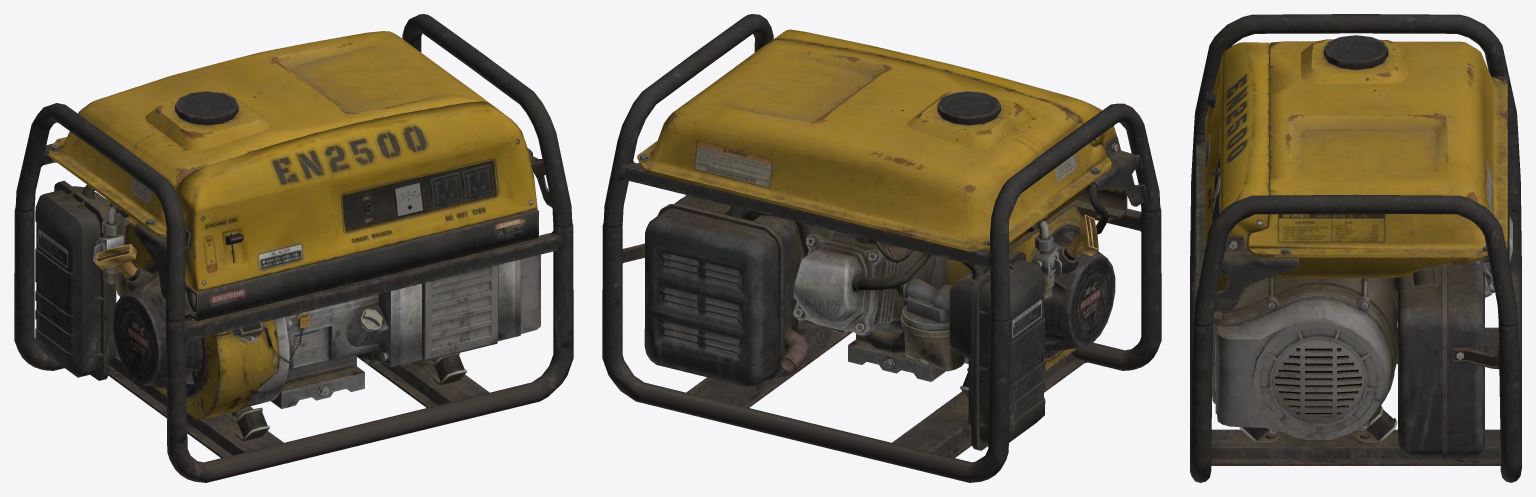
Rendered from generator-high.glb.
3 views of the same model, side by side, from view 1: azimuth 30°, elevation 25°; view 2: azimuth 150°, elevation 25°; view 3: azimuth 270°, elevation 25° (orthographic).
Visible parts, largest first — view 1: portable_generator; view 2: portable_generator; view 3: portable_generator.
Boxes of the visible parts, x1=… form: portable_generator: x1=14, y1=14, x2=573, y2=482; portable_generator: x1=602, y1=14, x2=1161, y2=482; portable_generator: x1=1190, y1=14, x2=1521, y2=482.
Bounding box in the file's own units: 0.8169 × 0.5752 × 0.564.
Materials: 2 (2 with a texture image).
